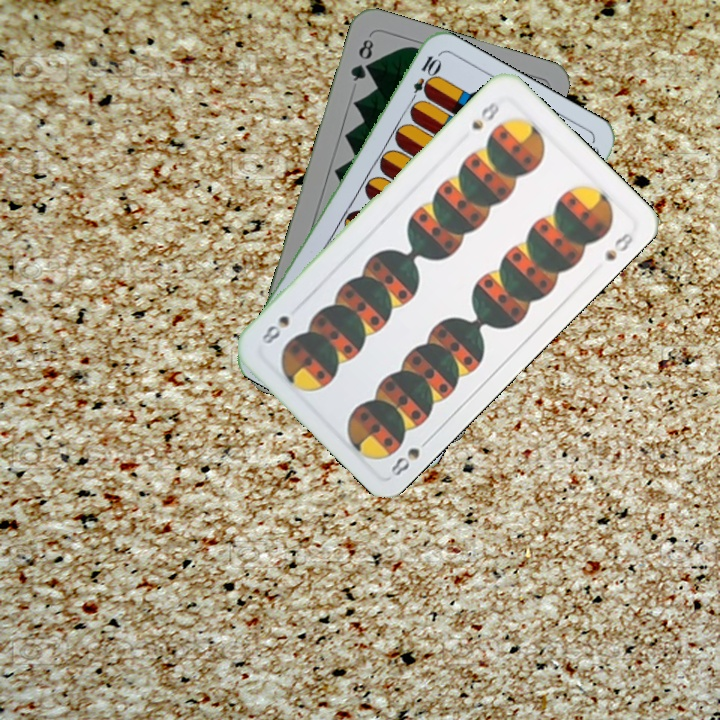E10: (405, 51, 442, 108)
G8: (346, 35, 376, 84)
S8: (386, 432, 434, 479), (467, 97, 502, 133)
